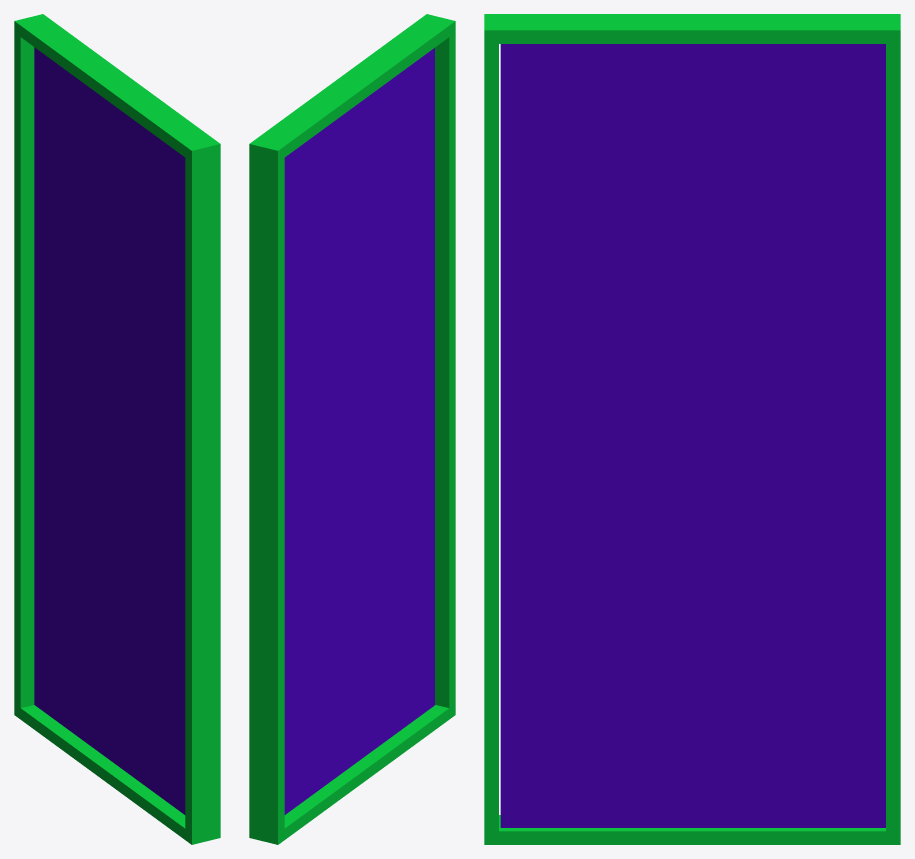
File: tight_door.fbx
The picture shows the model from 3 angles, left to right: view 1: azimuth 30°, elevation 25°; view 2: azimuth 150°, elevation 25°; view 3: azimuth 270°, elevation 25°; orthographic projection. The views are drawn at different scales.
Visible parts, largest first — view 1: Box018; view 2: Box018; view 3: Box018.
Boxes of the visible parts, bbox=[...] form: Box018: bbox=[14, 14, 220, 844]; Box018: bbox=[249, 14, 455, 844]; Box018: bbox=[484, 14, 900, 844].
Size of the model in its own units: 1.18 by 27.29 by 12.65.
